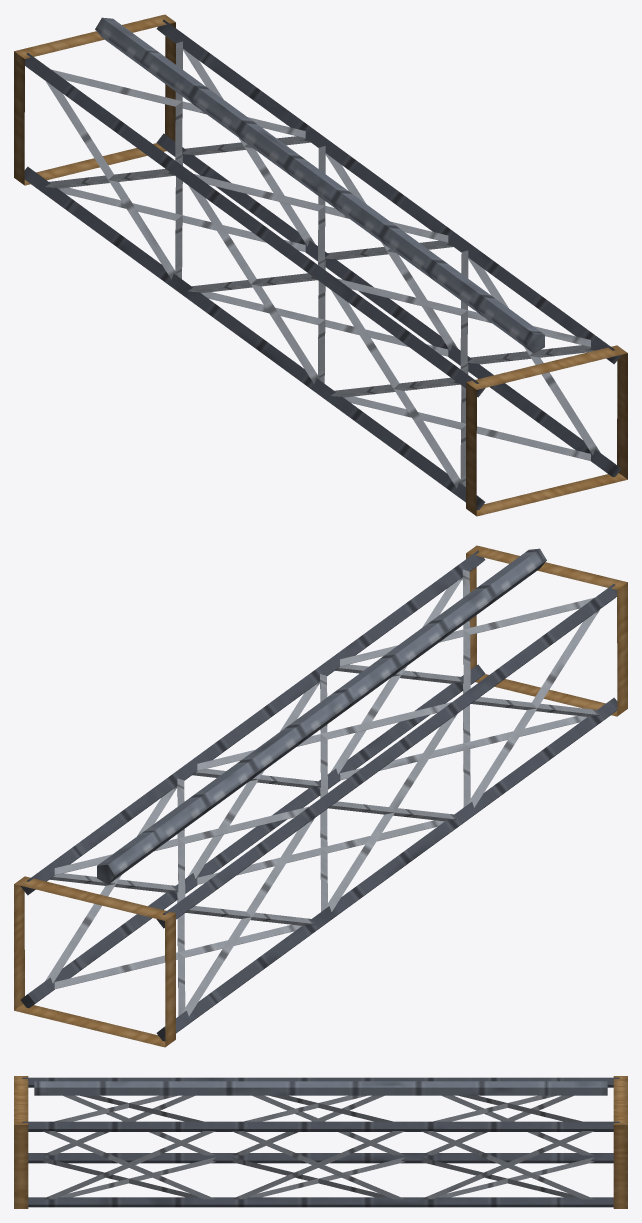
File: ship_spine_truss.obj
3 views of the same model, one above another, from view 1: azimuth 30°, elevation 25°; view 2: azimuth 150°, elevation 25°; view 3: azimuth 270°, elevation 25° (orthographic). The views are drawn at different scales.
Parts seen in each view (by area): view 1: bracing, longerons, conduit, collars; view 2: bracing, longerons, conduit, collars; view 3: longerons, bracing, conduit, collars.
Boxes of the visible parts, x1,y1,x2,y2 form: bracing: (45,41,600,488); longerons: (24,19,621,510); conduit: (95,17,544,353); collars: (14,14,627,516); bracing: (45,569,600,1016); longerons: (20,550,617,1041); conduit: (97,548,546,884); collars: (14,545,627,1047); longerons: (22,1077,619,1207); bracing: (42,1095,594,1199); conduit: (34,1081,607,1095); collars: (14,1076,627,1208).
Size of the model in its own units: 1.13 by 1.11 by 6.
4 materials, 4 textured.
